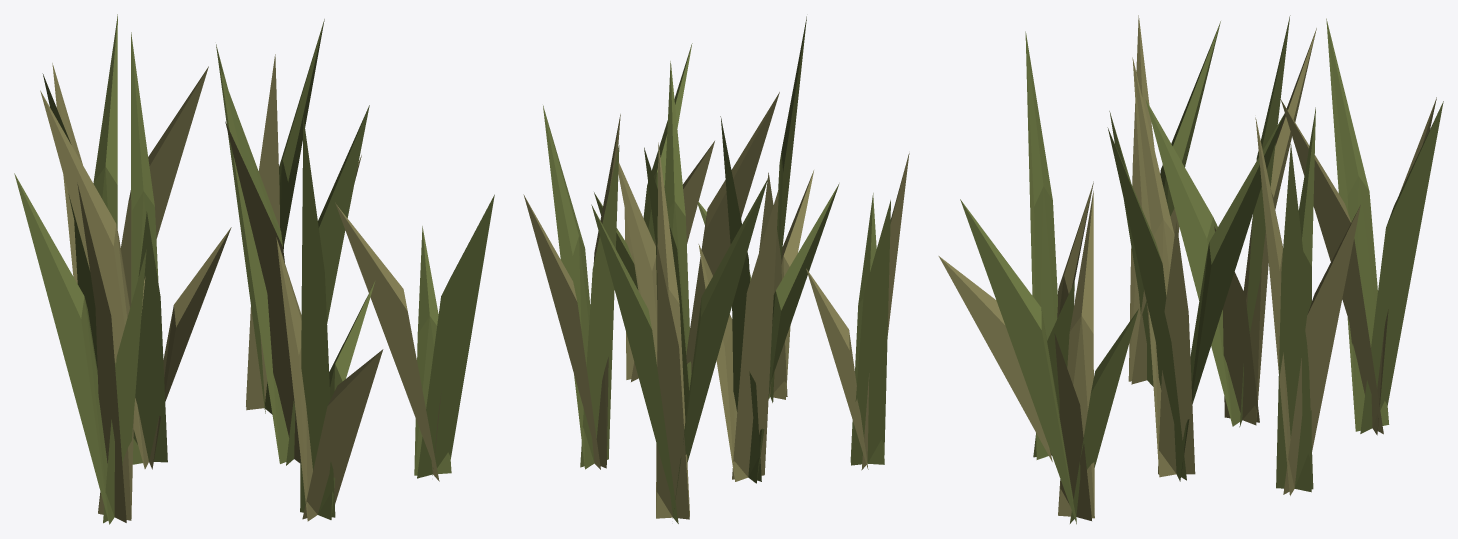
File: bank_grass.glb
3 views of the same model, side by side, from view 1: azimuth 30°, elevation 25°; view 2: azimuth 150°, elevation 25°; view 3: azimuth 270°, elevation 25° (orthographic). The views are drawn at different scales.
Parts seen in each view (by area): view 1: bank_grass_detail; view 2: bank_grass_detail; view 3: bank_grass_detail.
Boxes of the visible parts, x1,y1,x2,y2 form: bank_grass_detail: [14, 14, 494, 524]; bank_grass_detail: [523, 16, 909, 523]; bank_grass_detail: [938, 15, 1443, 524].
Size of the model in its own units: 0.5518 by 0.5837 by 0.6483.
